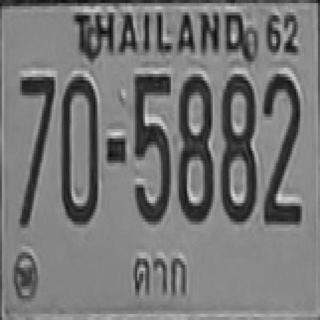N00: (60, 74, 97, 222)
N02: (260, 72, 300, 223), (261, 71, 299, 209)
N05: (133, 71, 171, 222)
N07: (18, 74, 54, 225)
N08: (177, 72, 213, 220), (219, 74, 254, 222)
P69: (124, 246, 198, 305)
